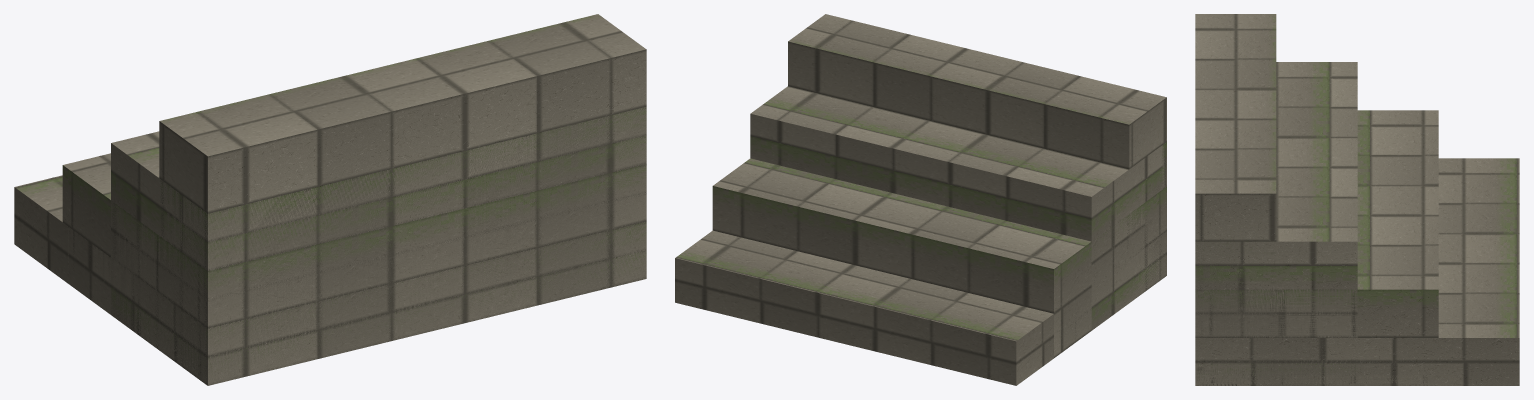
Rendered from terrace-steps.glb.
The picture shows the model from 3 angles, left to right: view 1: azimuth 30°, elevation 25°; view 2: azimuth 150°, elevation 25°; view 3: azimuth 270°, elevation 25°; orthographic projection. The views are drawn at different scales.
Parts seen in each view (by area): view 1: terrace-steps; view 2: terrace-steps; view 3: terrace-steps.
Boxes of the visible parts, bbox=[...] form: terrace-steps: bbox=[14, 14, 646, 385]; terrace-steps: bbox=[675, 14, 1166, 385]; terrace-steps: bbox=[1195, 14, 1519, 385].
Size of the model in its own units: 2.2 by 1.1 by 1.68.
1 material, 1 textured.
